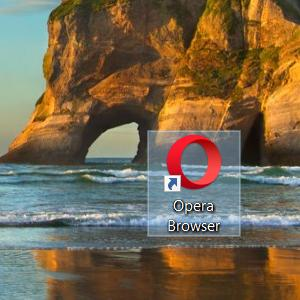opera: (163, 135, 221, 193)
